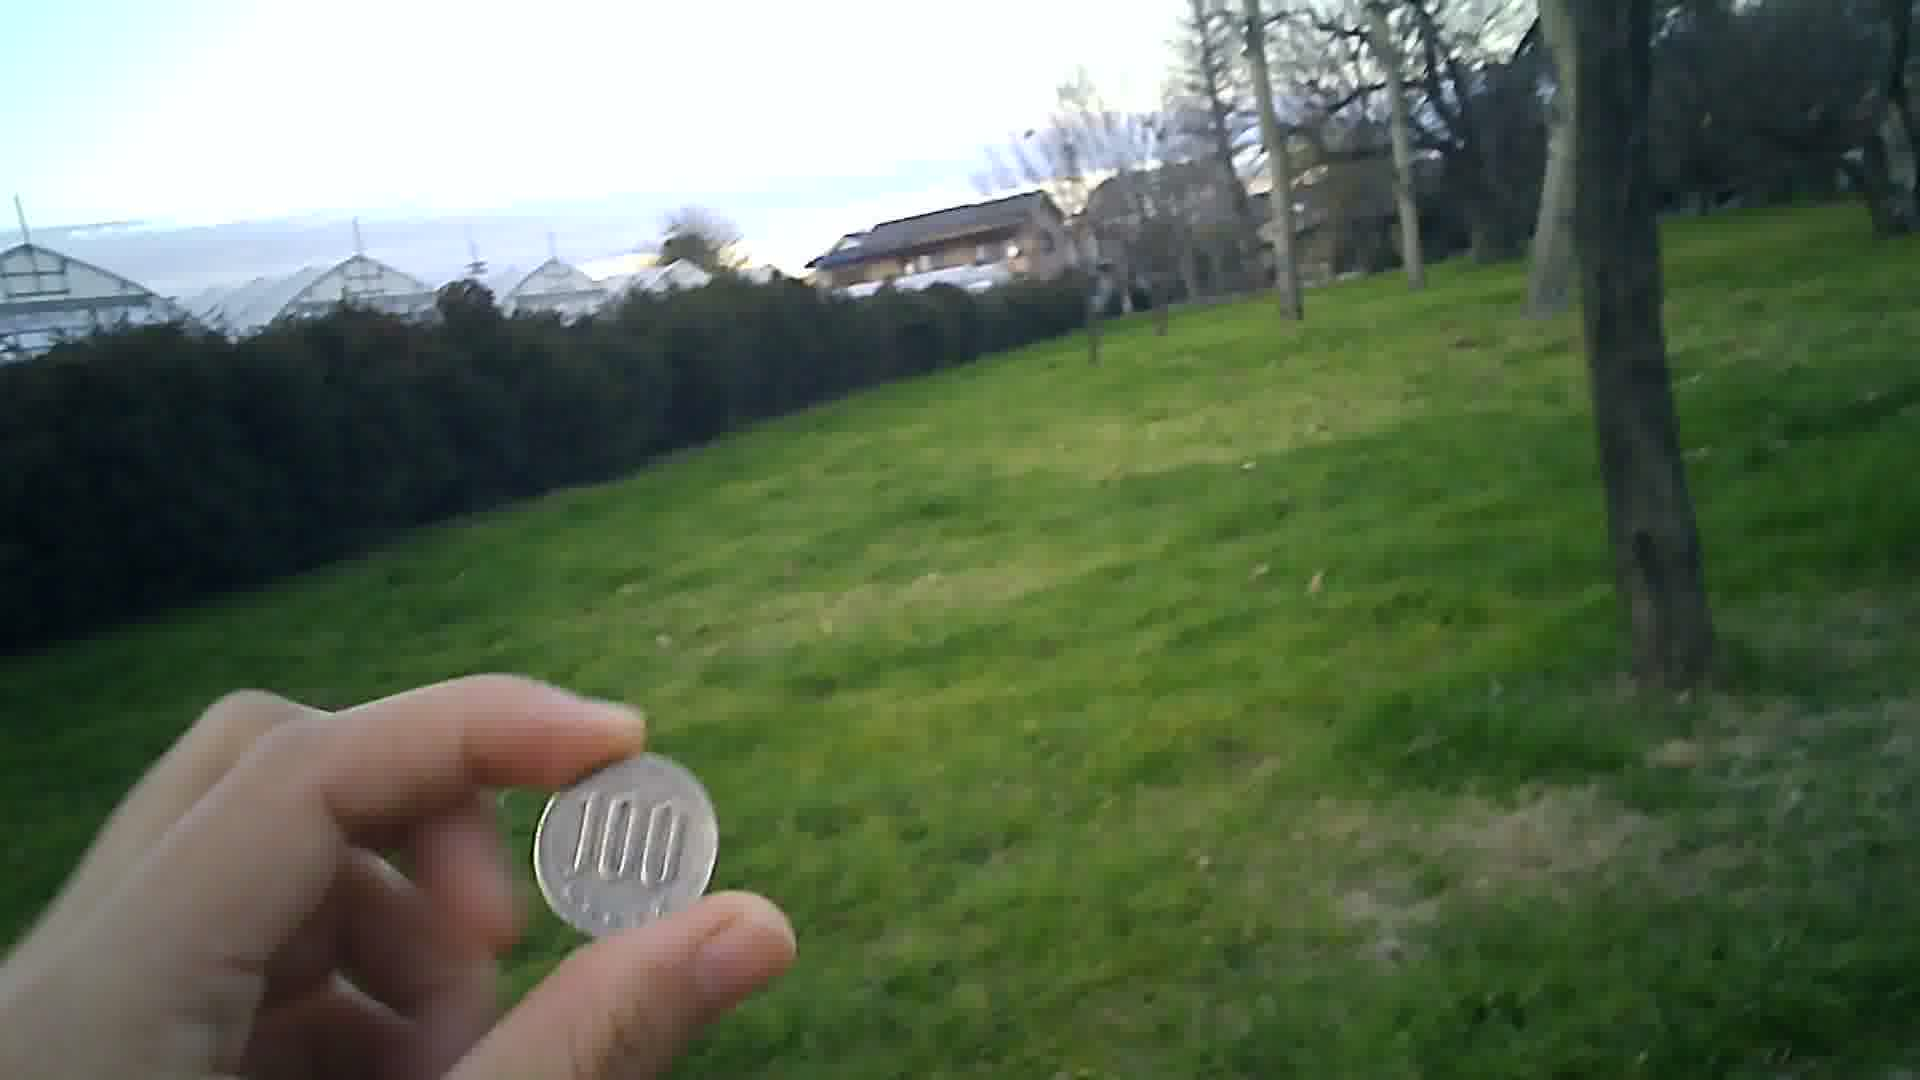100 Yen: (531, 742, 723, 935)
